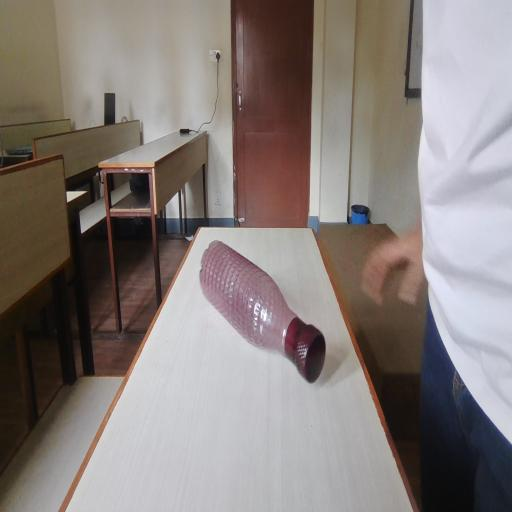Bottle: (188, 248, 337, 391)
